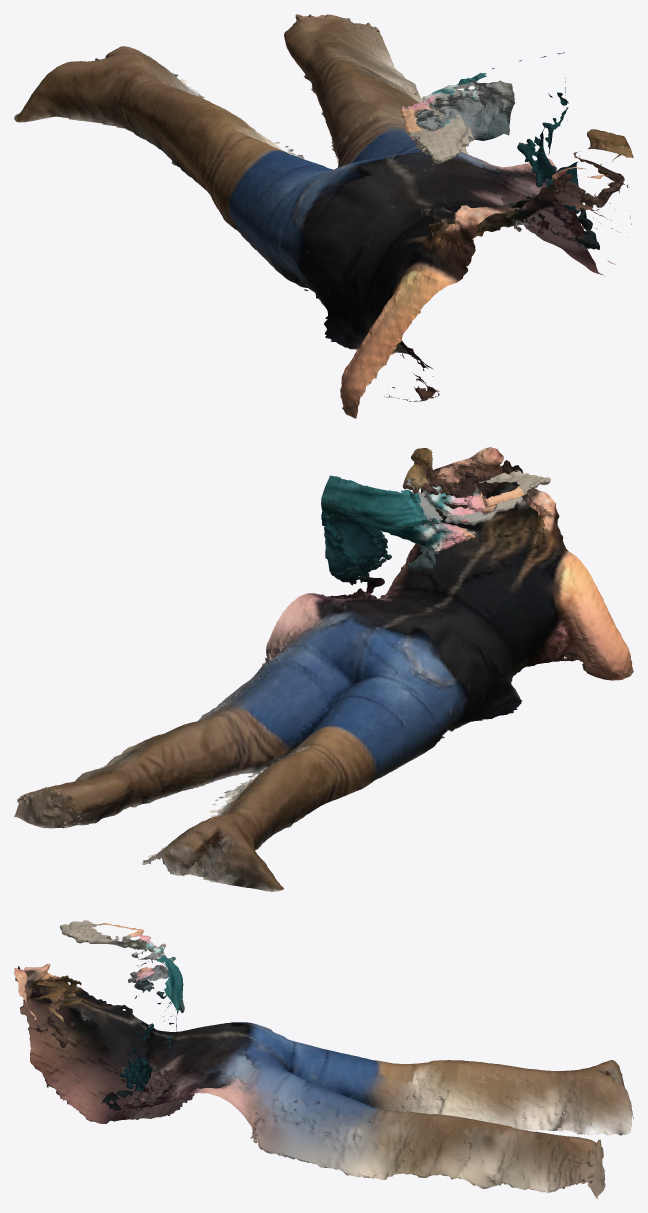
3 views of the same model, one above another, from view 1: azimuth 30°, elevation 25°; view 2: azimuth 150°, elevation 25°; view 3: azimuth 270°, elevation 25° (orthographic). The views are drawn at different scales.
Bounding box in the file's own units: 0.7692 × 0.4312 × 1.42.
Materials: 1 (1 with a texture image).
